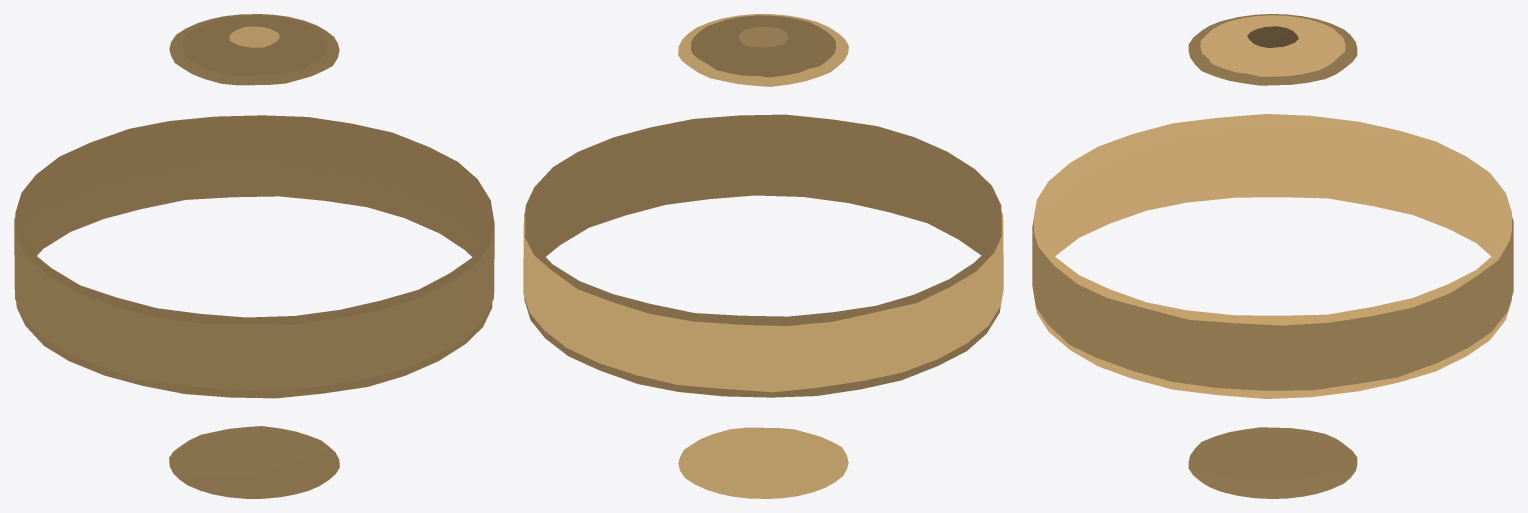
File: sys-dsf-mechanical.glb
3 views of the same model, side by side, from view 1: azimuth 30°, elevation 25°; view 2: azimuth 150°, elevation 25°; view 3: azimuth 270°, elevation 25° (orthographic).
Parts seen in each view (by area): view 1: TS-dsf-mechanical-1592, TS-dsf-mechanical-1594, TS-dsf-mechanical-1667; view 2: TS-dsf-mechanical-1592, TS-dsf-mechanical-1594, TS-dsf-mechanical-1667; view 3: TS-dsf-mechanical-1592, TS-dsf-mechanical-1594, TS-dsf-mechanical-1667.
Boxes of the visible parts, x1,y1,x2,y2 form: TS-dsf-mechanical-1592: [15, 15, 493, 398]; TS-dsf-mechanical-1594: [14, 14, 494, 498]; TS-dsf-mechanical-1667: [229, 26, 279, 47]; TS-dsf-mechanical-1592: [524, 15, 1001, 397]; TS-dsf-mechanical-1594: [523, 14, 1003, 498]; TS-dsf-mechanical-1667: [738, 26, 788, 47]; TS-dsf-mechanical-1592: [1034, 15, 1511, 398]; TS-dsf-mechanical-1594: [1032, 14, 1513, 498]; TS-dsf-mechanical-1667: [1247, 26, 1298, 47].
Size of the model in its own units: 1.98 by 2 by 1.98.
